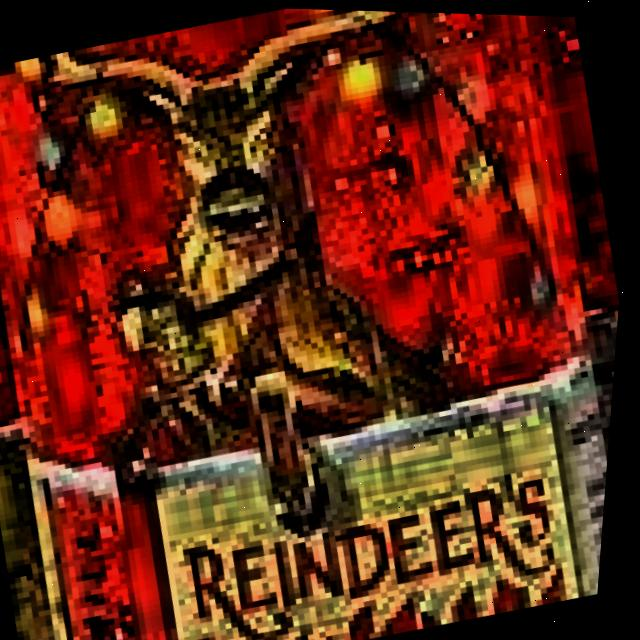metal: (0, 0, 640, 640), (0, 43, 236, 640)
